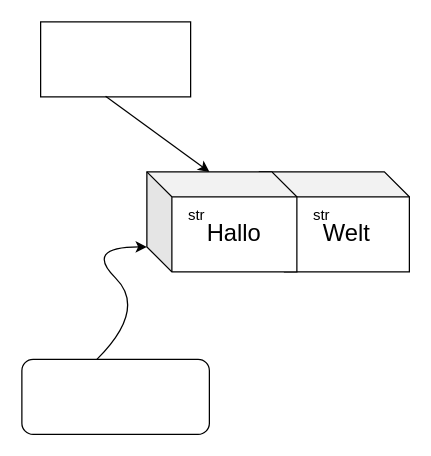
Some shapes in this 431 by 456 pixel diagram are drawn without their labels. The shapes that lost their labels are listed below. From the top down, each one's centre as x and y in pixels, then its label:
pixel 115 59: Speicherplatz für Array von Strings
pixel 115 396: meldung
